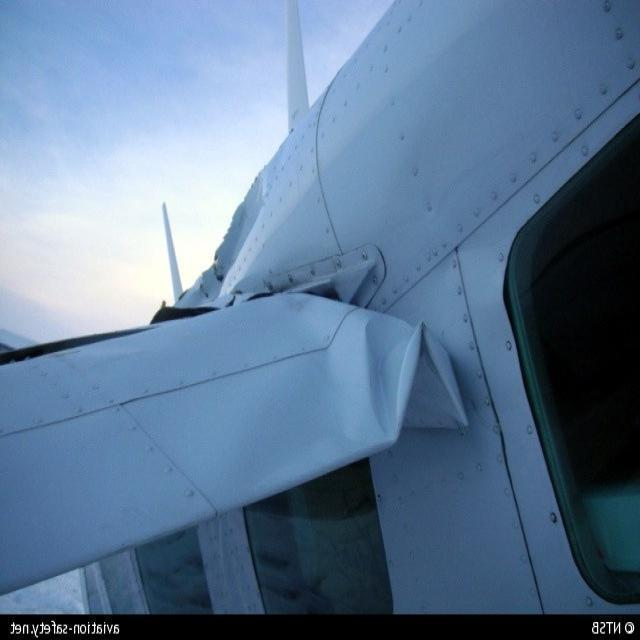dent: (347, 310, 471, 456)
